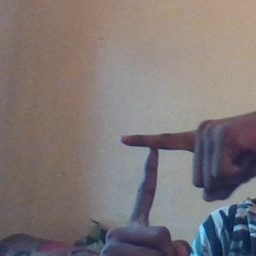T: (108, 110, 209, 236)
